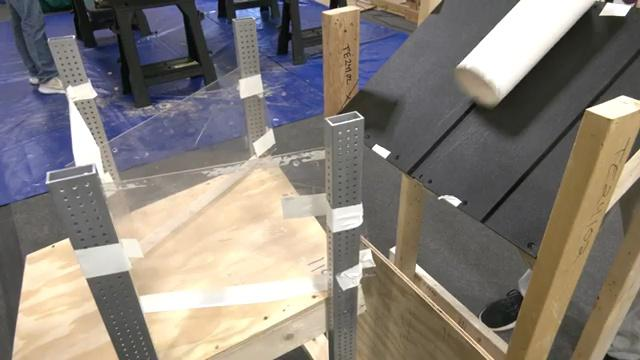CORAL: (452, 0, 598, 109)
